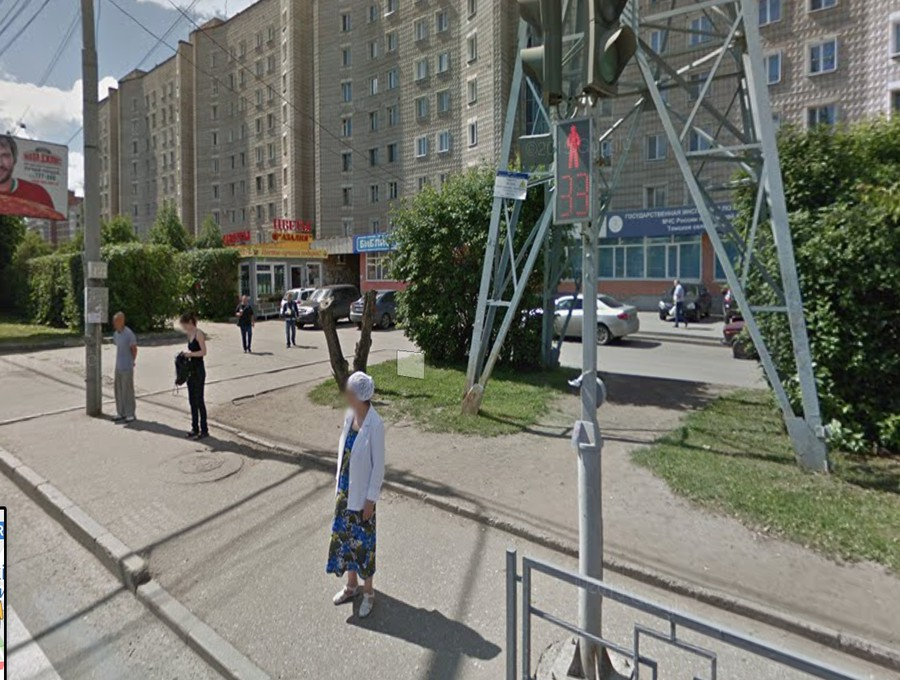Traffic Light-red: (547, 125, 598, 228)
